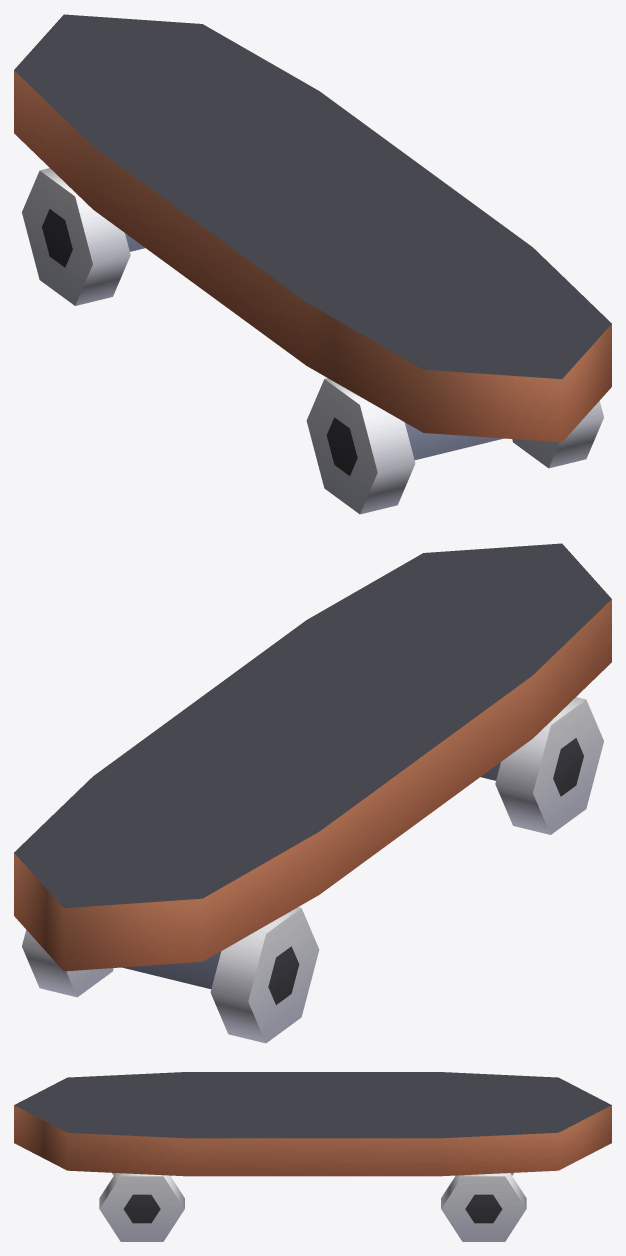
File: skateboard_lev2.glb
The picture shows the model from 3 angles, top to bottom: view 1: azimuth 30°, elevation 25°; view 2: azimuth 150°, elevation 25°; view 3: azimuth 270°, elevation 25°; orthographic projection. The views are drawn at different scales.
Parts seen in each view (by area): view 1: skateboard_lev2; view 2: skateboard_lev2; view 3: skateboard_lev2.
Boxes of the visible parts, bbox=[...] form: skateboard_lev2: bbox=[14, 14, 611, 514]; skateboard_lev2: bbox=[14, 543, 611, 1043]; skateboard_lev2: bbox=[14, 1072, 611, 1241].
Bounding box in the file's own units: 0.7425 × 0.5416 × 2.83.
1 material, 1 textured.
